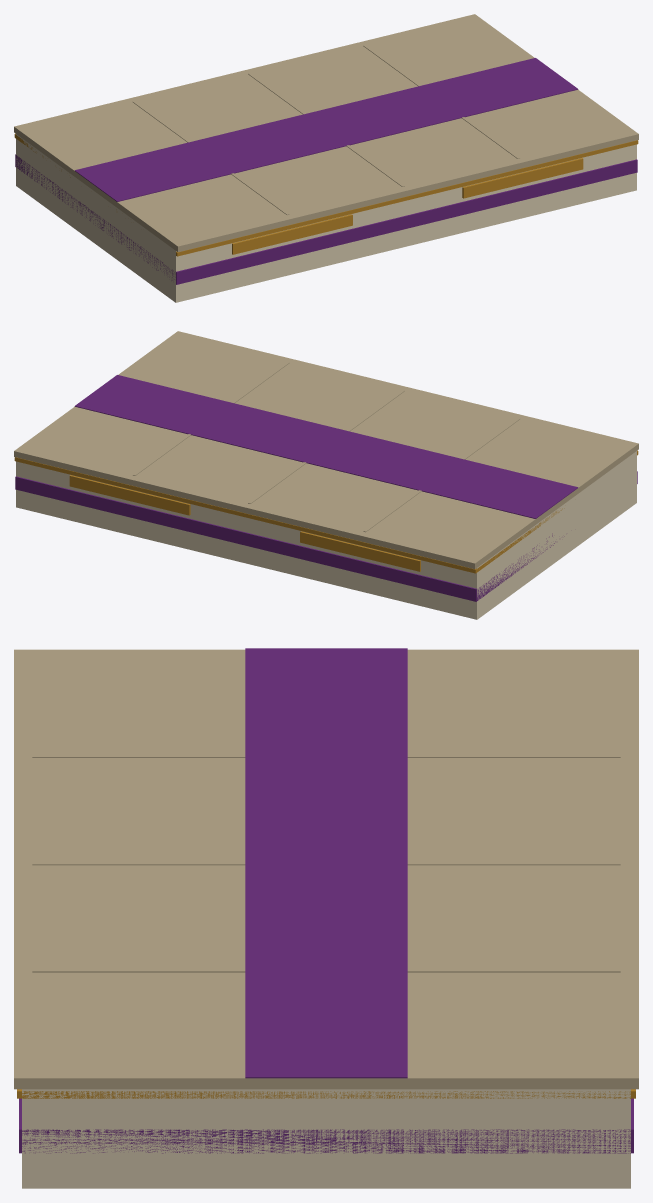
File: SM_Spina_10m.fbx
3 views of the same model, one above another, from view 1: azimuth 30°, elevation 25°; view 2: azimuth 150°, elevation 25°; view 3: azimuth 270°, elevation 25° (orthographic). The views are drawn at different scales.
Visible parts, largest first — view 1: SM_Spina_10m; view 2: SM_Spina_10m; view 3: SM_Spina_10m.
Boxes of the visible parts, x1=… form: SM_Spina_10m: x1=14, y1=14, x2=638, y2=302; SM_Spina_10m: x1=14, y1=331, x2=638, y2=619; SM_Spina_10m: x1=14, y1=648, x2=638, y2=1188.
Size of the model in its own units: 10 by 6.16 by 1.22.
